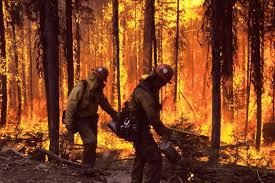fire: (28, 4, 235, 162), (0, 8, 142, 161)
